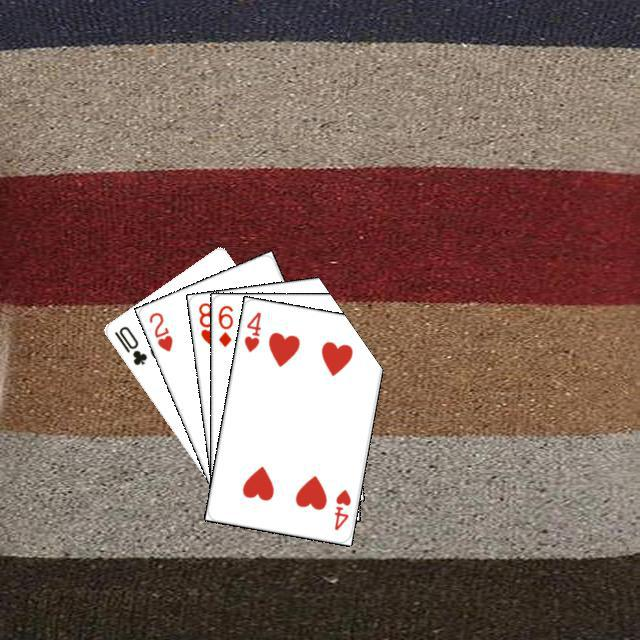10c: (109, 321, 149, 367)
2h: (144, 307, 174, 353)
4h: (329, 484, 353, 532), (239, 307, 263, 354)
6d: (213, 300, 234, 349)
8h: (193, 298, 218, 346)
